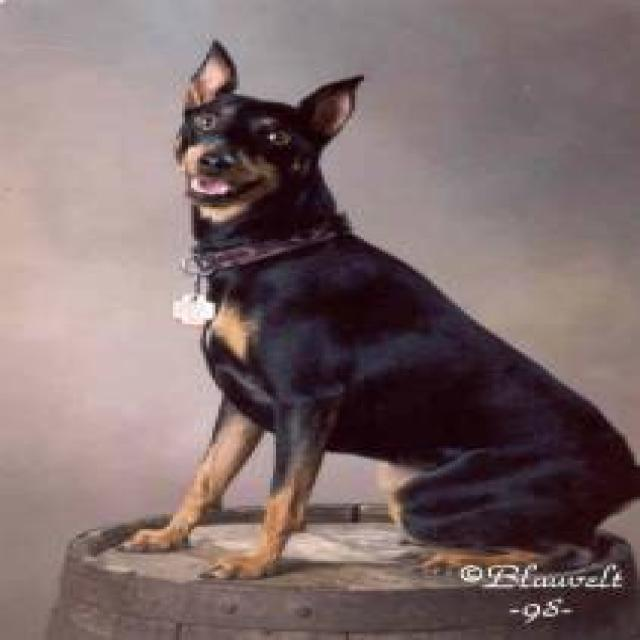dog-miniature_pinscher: (121, 28, 634, 589)
